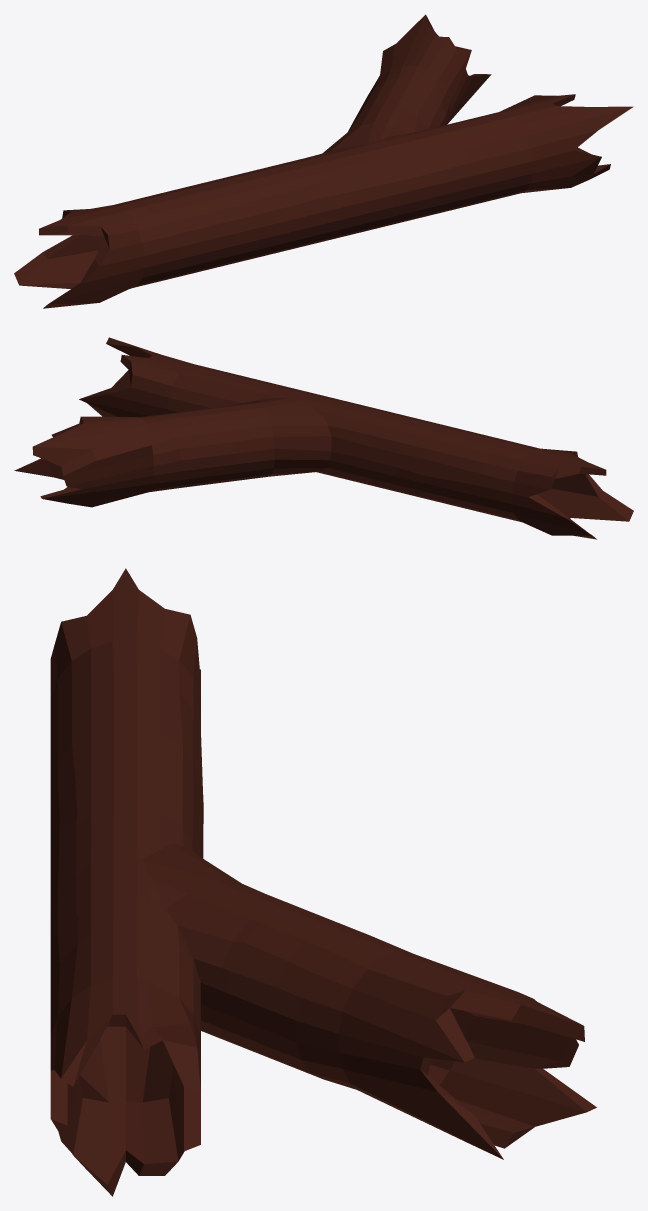
The model's file is LogV2.fbx.
The picture shows the model from 3 angles, top to bottom: view 1: azimuth 30°, elevation 25°; view 2: azimuth 150°, elevation 25°; view 3: azimuth 270°, elevation 25°; orthographic projection. The views are drawn at different scales.
Parts seen in each view (by area): view 1: logsplit; view 2: logsplit; view 3: logsplit.
Part boxes in pixels (box(x1,y1,x2,y2)): logsplit: box(14, 14, 633, 308); logsplit: box(14, 337, 633, 539); logsplit: box(50, 568, 596, 1196).
Size of the model in its own units: 506 by 69.01 by 229.
